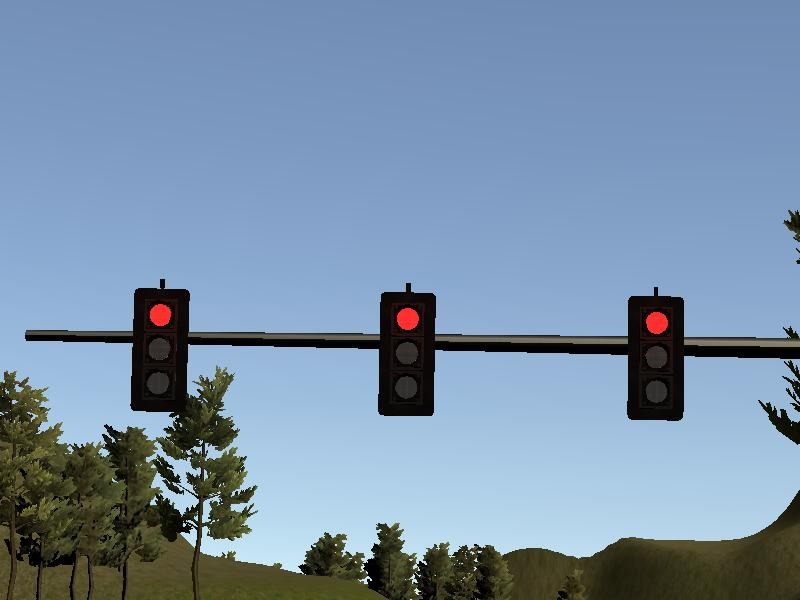red: (130, 287, 191, 411), (624, 295, 685, 419), (375, 293, 436, 417)
